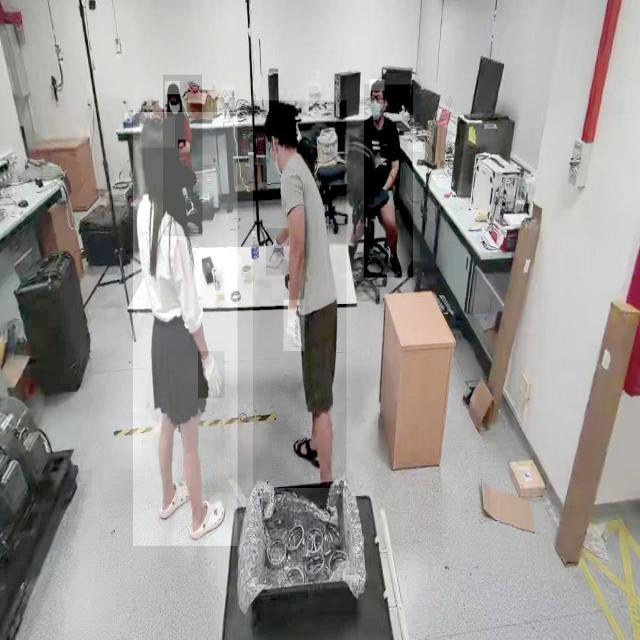gloves: (198, 351, 225, 399), (283, 300, 305, 352), (266, 228, 289, 276)
